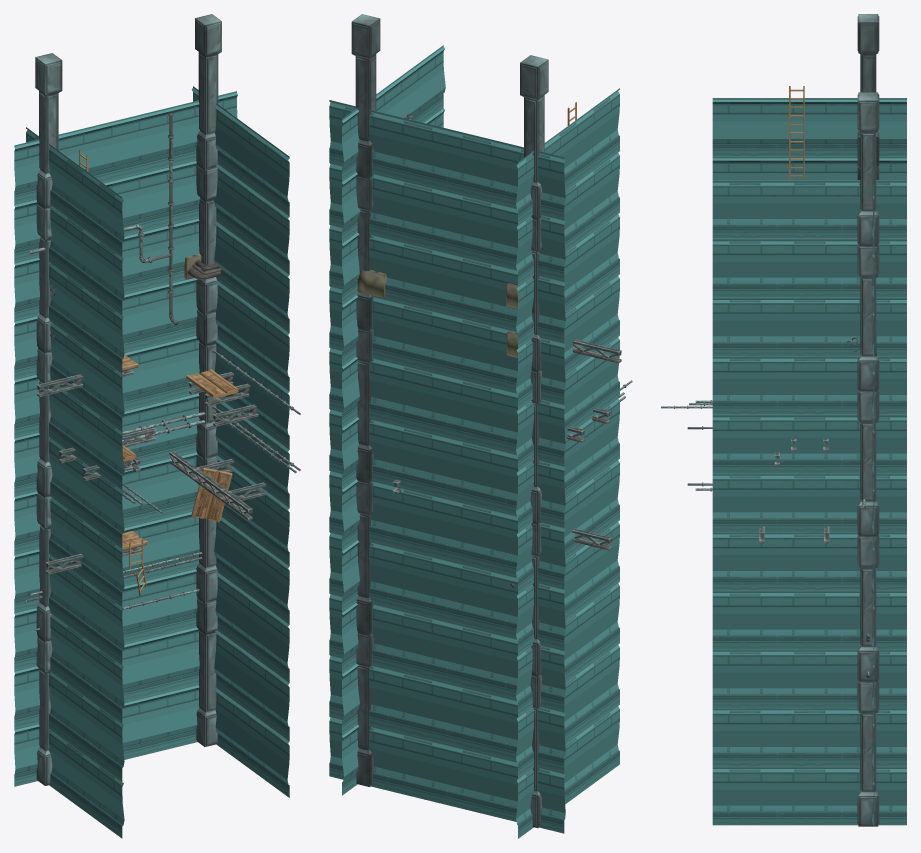
File: spaceJump_levelTwo_v1 - UV Adjust for Atlas.fbx
3 renders of one model, left to right at view 1: azimuth 30°, elevation 25°; view 2: azimuth 150°, elevation 25°; view 3: azimuth 270°, elevation 25°, orthographic. The views are drawn at different scales.
Visible parts, largest first — view 1: wallPanel v3.101, wallPanel v3.091, column_tall.004, wallPanel v3.007, wallPanel v3.081, wallPanel v3.061, wallPanel v3.005, wallPanel v3.051, wallPanel v3.001, wallPanel v3.041, column_tall.009, wallPanel v3.060 (+87 smaller); view 2: wallPanel v3.081, wallPanel v3.101, wallPanel v3.005, wallPanel v3.041, wallPanel v3.061, wallPanel v3.007, wallPanel v3.051, wallPanel v3.071, wallPanel v3.091, wallPanel v3.040, wallPanel v3.060, wallPanel v3.002 (+90 smaller); view 3: wallPanel v3.059, wallPanel v3.079, wallPanel v3.109, wallPanel v3.038, wallPanel v3.058, wallPanel v3.078, wallPanel v3.108, wallPanel v3.039, wallPanel v3.049, wallPanel v3.066, wallPanel v3.069, wallPanel v3.089 (+33 smaller).
Boxes of the visible parts, x1,y1,x2,y2 form: wallPanel v3.101: [125, 688, 182, 759]; wallPanel v3.091: [125, 629, 182, 701]; column_tall.004: [195, 14, 221, 169]; wallPanel v3.007: [125, 279, 182, 351]; wallPanel v3.081: [125, 571, 182, 642]; wallPanel v3.061: [125, 105, 182, 176]; wallPanel v3.005: [125, 338, 182, 409]; wallPanel v3.051: [125, 163, 182, 234]; wallPanel v3.001: [125, 454, 182, 526]; wallPanel v3.041: [125, 221, 182, 292]; column_tall.009: [35, 53, 62, 208]; wallPanel v3.060: [70, 118, 126, 182]; wallPanel v3.081: [388, 606, 448, 681]; wallPanel v3.101: [388, 729, 448, 804]; wallPanel v3.005: [388, 360, 448, 435]; wallPanel v3.041: [388, 237, 448, 312]; wallPanel v3.061: [388, 114, 448, 189]; wallPanel v3.007: [388, 299, 448, 374]; wallPanel v3.051: [388, 176, 448, 251]; wallPanel v3.071: [388, 545, 448, 620]; wallPanel v3.091: [388, 668, 448, 743]; wallPanel v3.040: [447, 251, 506, 327]; wallPanel v3.060: [447, 128, 506, 204]; wallPanel v3.002: [447, 436, 506, 511]; wallPanel v3.059: [712, 238, 777, 297]; wallPanel v3.079: [712, 590, 777, 649]; wallPanel v3.109: [712, 766, 777, 825]; wallPanel v3.038: [712, 414, 777, 473]; wallPanel v3.058: [777, 238, 841, 297]; wallPanel v3.078: [777, 590, 841, 649]; wallPanel v3.108: [777, 766, 841, 825]; wallPanel v3.039: [712, 356, 777, 414]; wallPanel v3.049: [712, 297, 777, 355]; wallPanel v3.066: [712, 98, 777, 156]; wallPanel v3.069: [712, 180, 777, 238]; wallPanel v3.089: [712, 649, 777, 707].
Bounding box in the file's own units: 1704 × 4957 × 1518.
